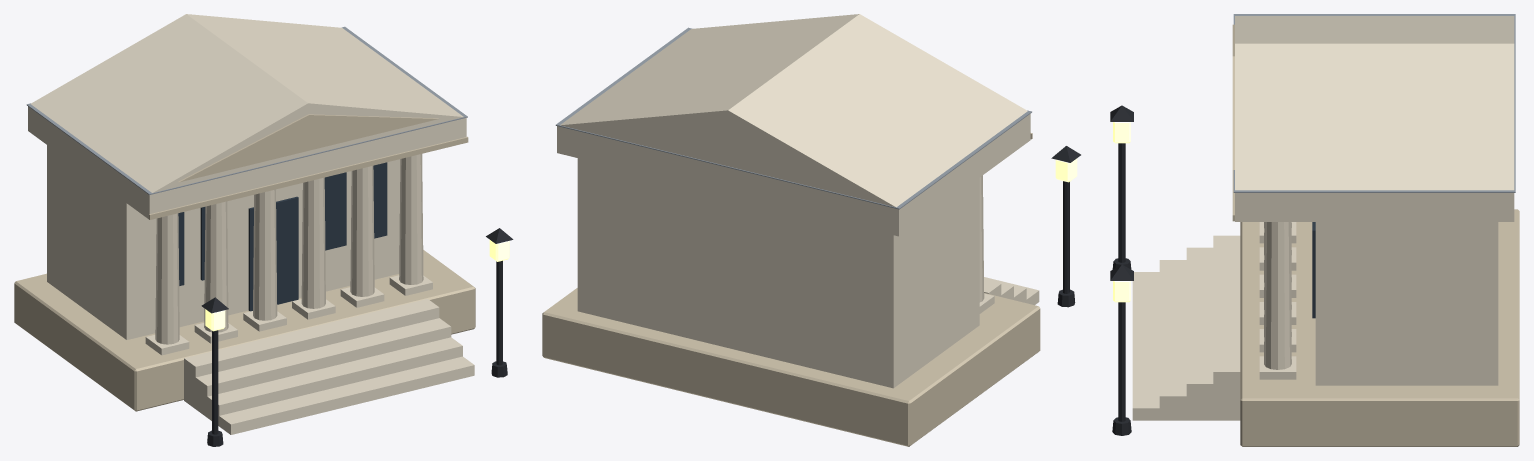
The model's file is fed_stl.glb.
3 views of the same model, side by side, from view 1: azimuth 30°, elevation 25°; view 2: azimuth 150°, elevation 25°; view 3: azimuth 270°, elevation 25° (orthographic). The views are drawn at different scales.
Visible parts, largest first — view 1: building; view 2: building; view 3: building.
Part boxes in pixels (bbox=[...]): building: bbox=[14, 14, 513, 446]; building: bbox=[542, 14, 1080, 446]; building: bbox=[1110, 14, 1519, 446].
Bounding box in the file's own units: 4.2 × 3.17 × 3.81.
